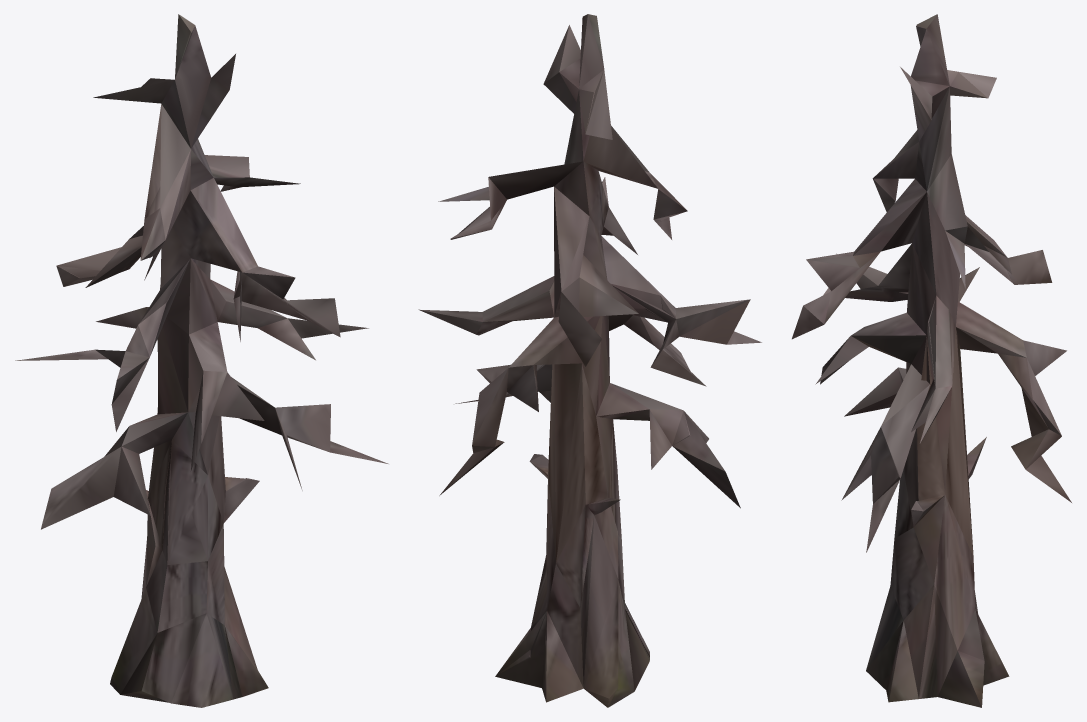
Rendered from bg_swamp_dead_3_lod1.glb.
The picture shows the model from 3 angles, left to right: view 1: azimuth 30°, elevation 25°; view 2: azimuth 150°, elevation 25°; view 3: azimuth 270°, elevation 25°; orthographic projection. The views are drawn at different scales.
Parts seen in each view (by area): view 1: body; view 2: body; view 3: body.
Part boxes in pixels (x1,y1,x2,y2): body: (15, 14, 388, 707); body: (418, 14, 761, 707); body: (792, 14, 1071, 707).
Bounding box in the file's own units: 1.93 × 3.81 × 1.47.
1 material, 1 textured.
